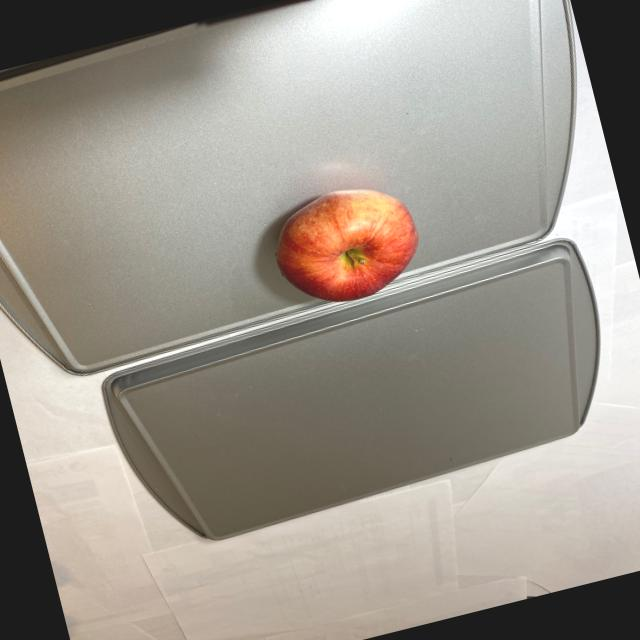apple: (258, 174, 430, 316)
